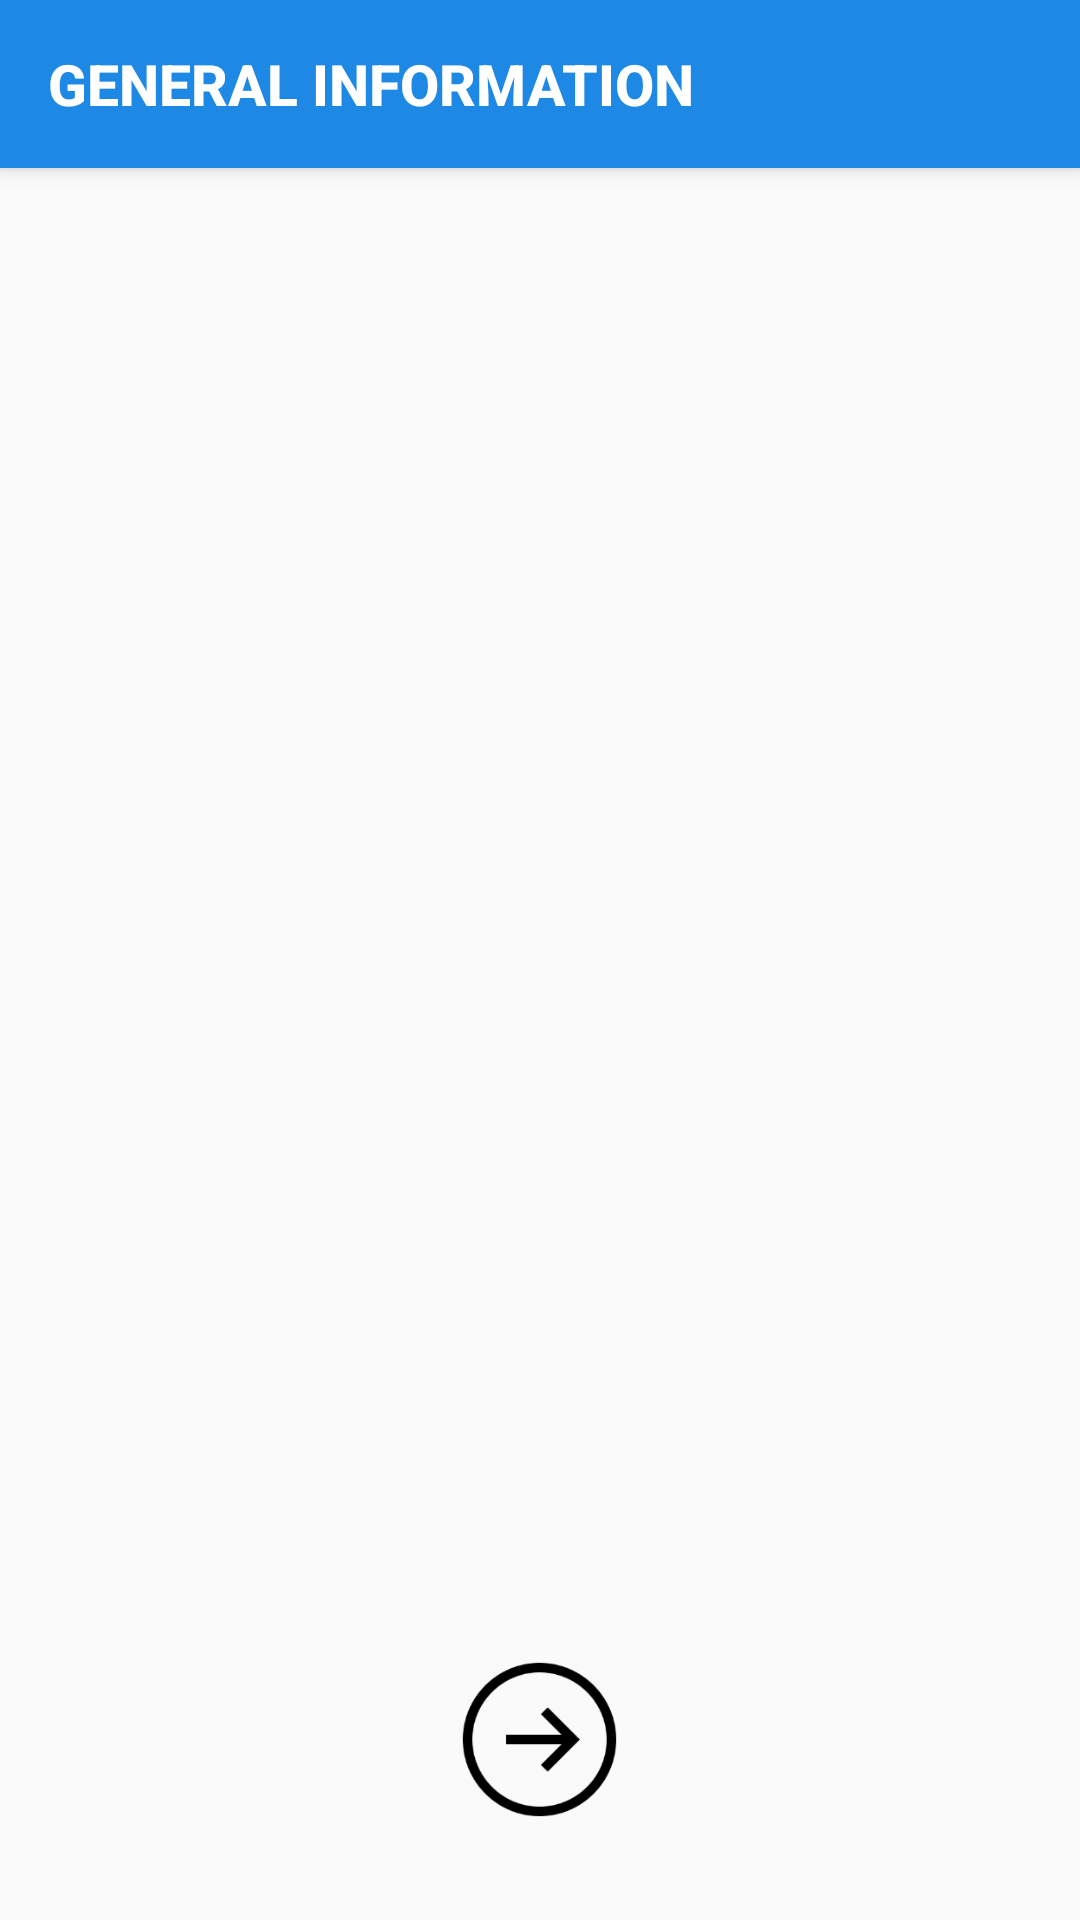

Locate icon controls on the screen. Image size 1080×1920, boxes as [left=x1, top=y1, right=x2, bottom=y2].
arrow next: [left=462, top=1662, right=617, bottom=1817]
